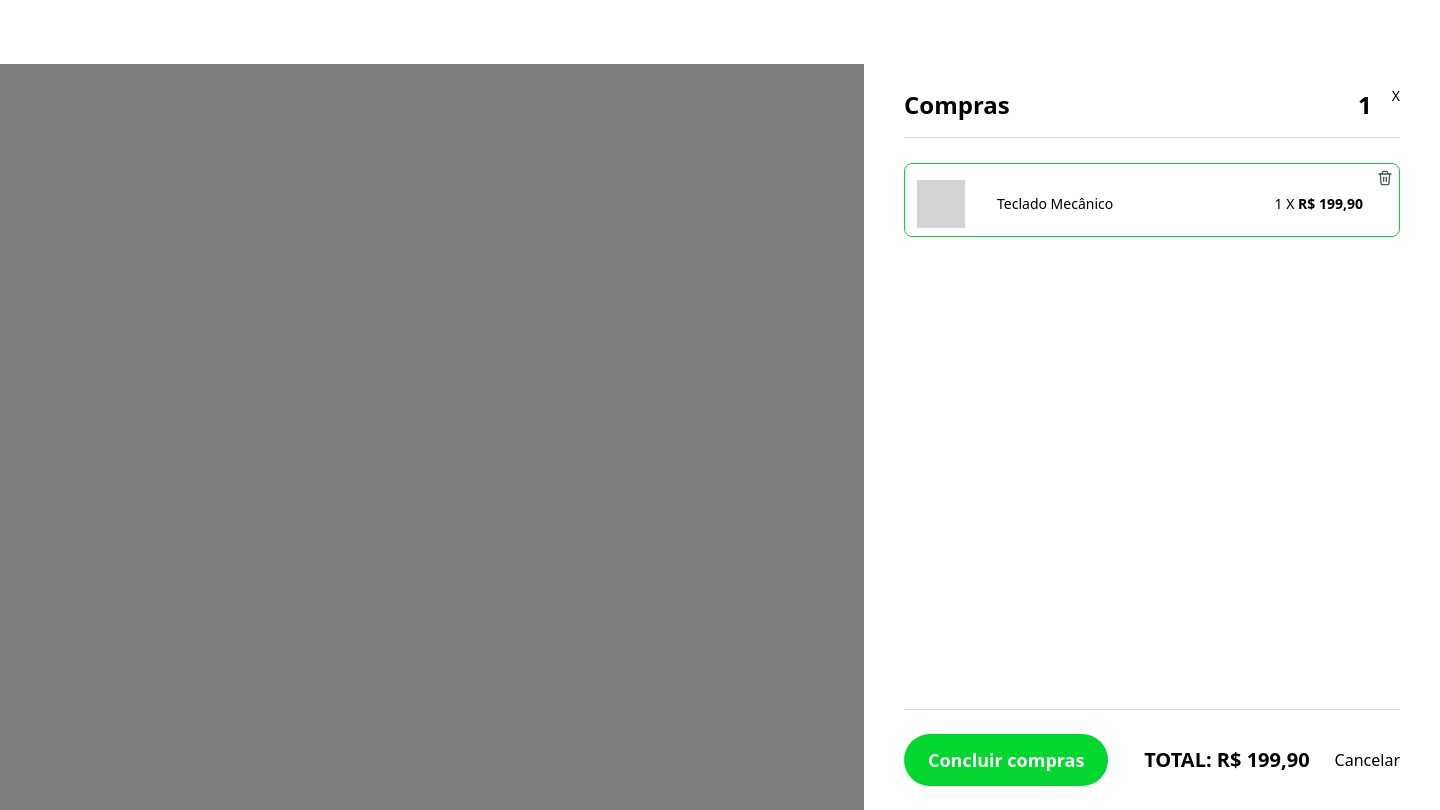
CartModal › cancelar na confirmação mantém o item no carrinho
Click the button named "Remover Teclado Mecânico" at x=1385, y=178, box [1377,170,1393,186]
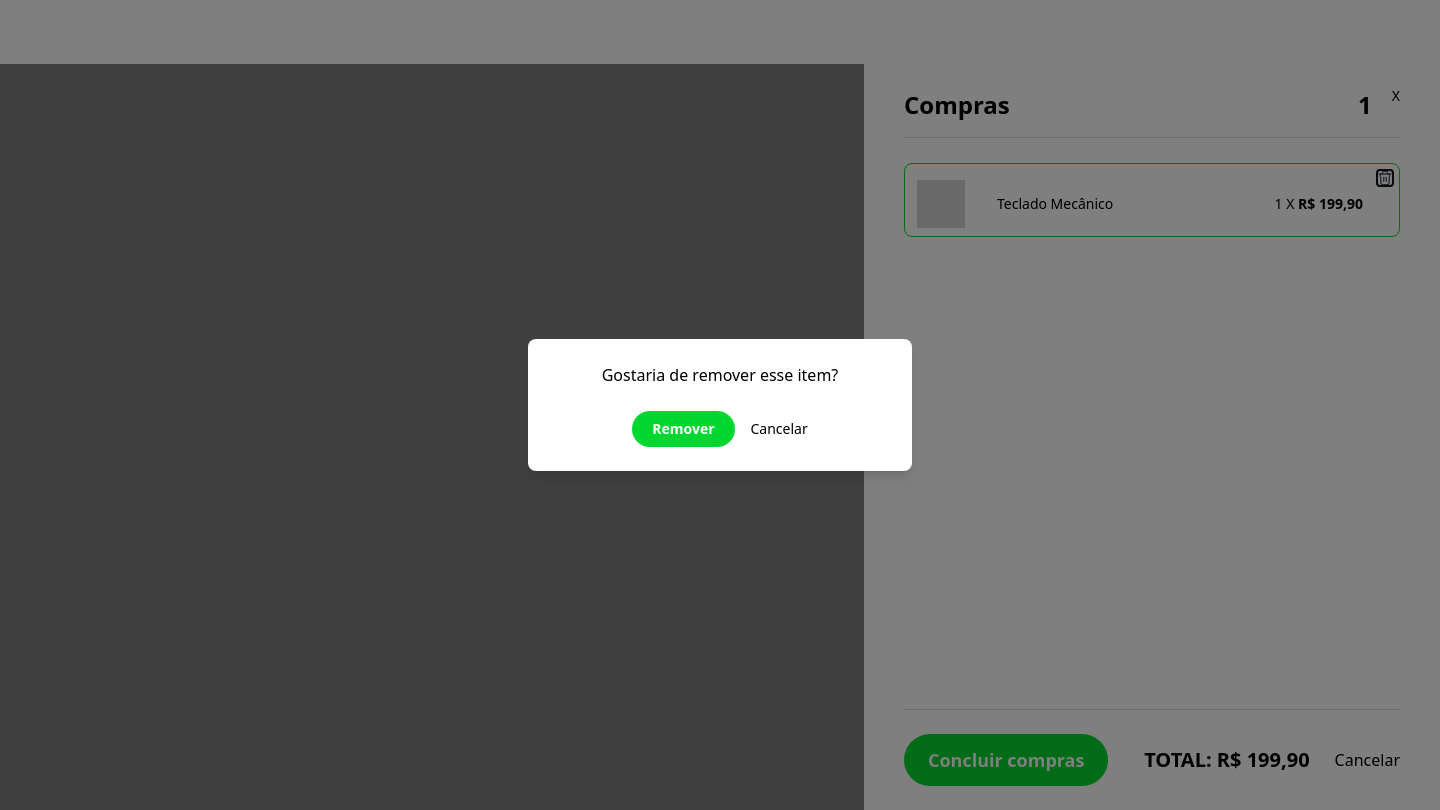
Click the button named "Cancelar remoção" at x=779, y=429, box [750,411,808,447]
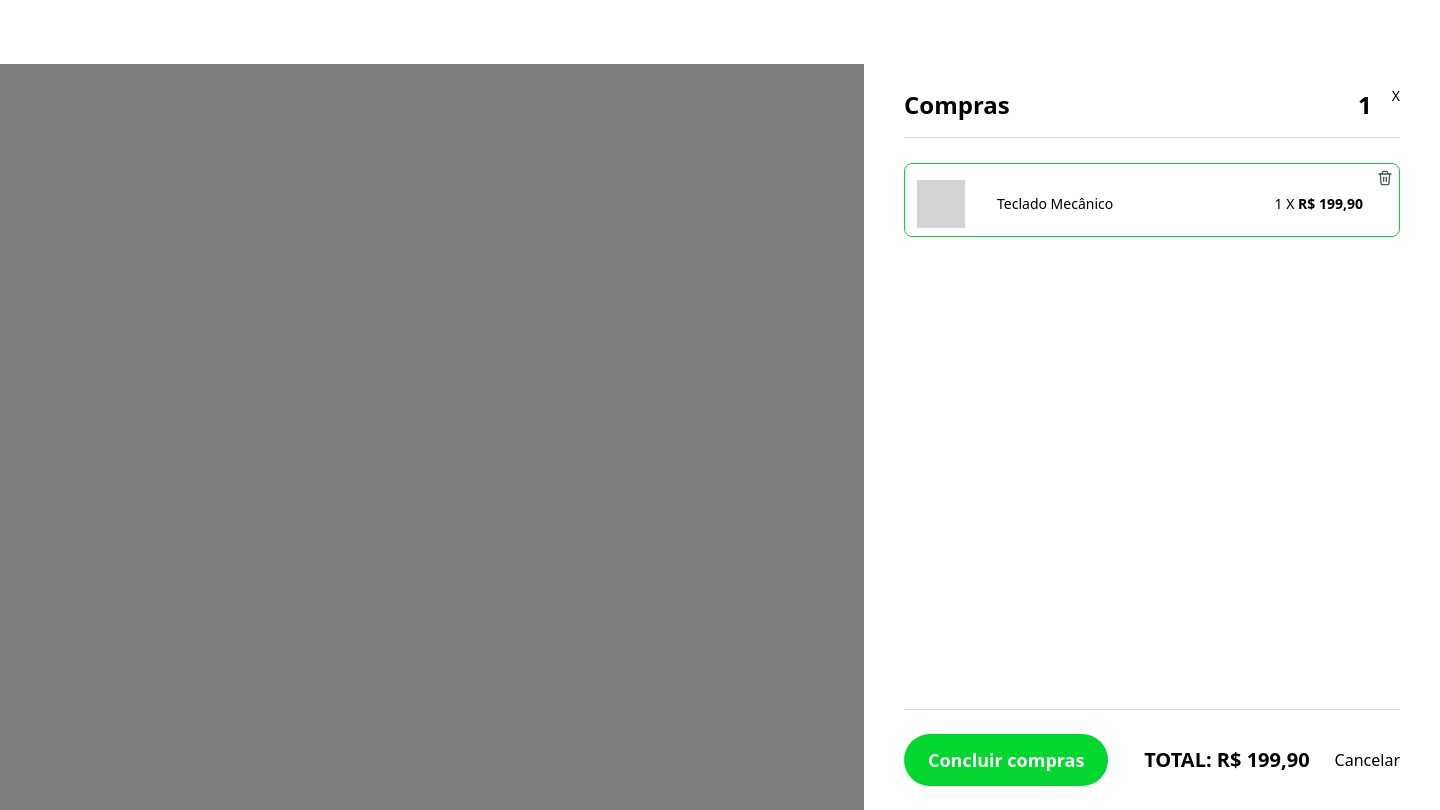
Expected: the dialog is gone
